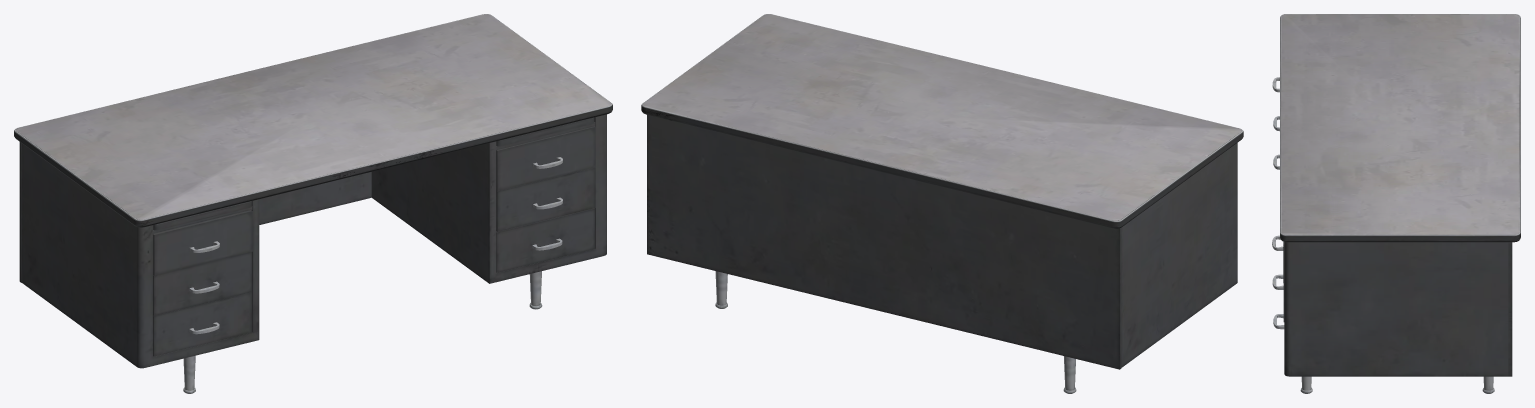
The model's file is metal_office_desk.glb.
The picture shows the model from 3 angles, left to right: view 1: azimuth 30°, elevation 25°; view 2: azimuth 150°, elevation 25°; view 3: azimuth 270°, elevation 25°; orthographic projection. The views are drawn at different scales.
Parts seen in each view (by area): view 1: metal_office_desk, metal_office_desk_drawer_04, metal_office_desk_drawer_01, metal_office_desk_drawer_02, metal_office_desk_drawer_03, metal_office_desk_drawer_06, metal_office_desk_drawer_05, metal_office_desk_tray_01, metal_office_desk_tray_02; view 2: metal_office_desk; view 3: metal_office_desk.
Boxes of the visible parts, box(x1,y1,x2,y2) form: metal_office_desk: box(14, 14, 612, 393); metal_office_desk_drawer_04: box(153, 210, 252, 275); metal_office_desk_drawer_01: box(496, 126, 595, 191); metal_office_desk_drawer_02: box(496, 167, 595, 231); metal_office_desk_drawer_03: box(496, 208, 594, 272); metal_office_desk_drawer_06: box(153, 292, 251, 356); metal_office_desk_drawer_05: box(153, 252, 251, 315); metal_office_desk_tray_01: box(153, 201, 251, 230); metal_office_desk_tray_02: box(496, 117, 594, 146); metal_office_desk: box(641, 14, 1243, 393); metal_office_desk: box(1280, 14, 1520, 393).
Bounding box in the file's own units: 2 × 0.7874 × 0.9472.
1 material, 1 textured.
